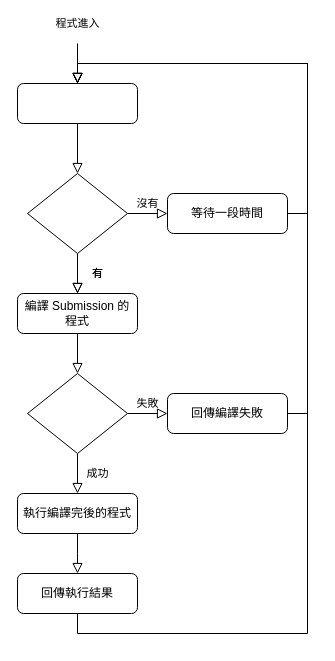
Some shapes in this 335 by 661 pixel diagram are drawn without their labels. Here are the shapes that lost their labels. From the top down, the centre of each, then its label:
the point at 77,103: 取得一筆 Submission
the point at 77,213: 是否有取到 Submission？
the point at 77,413: 編譯是否成功？
